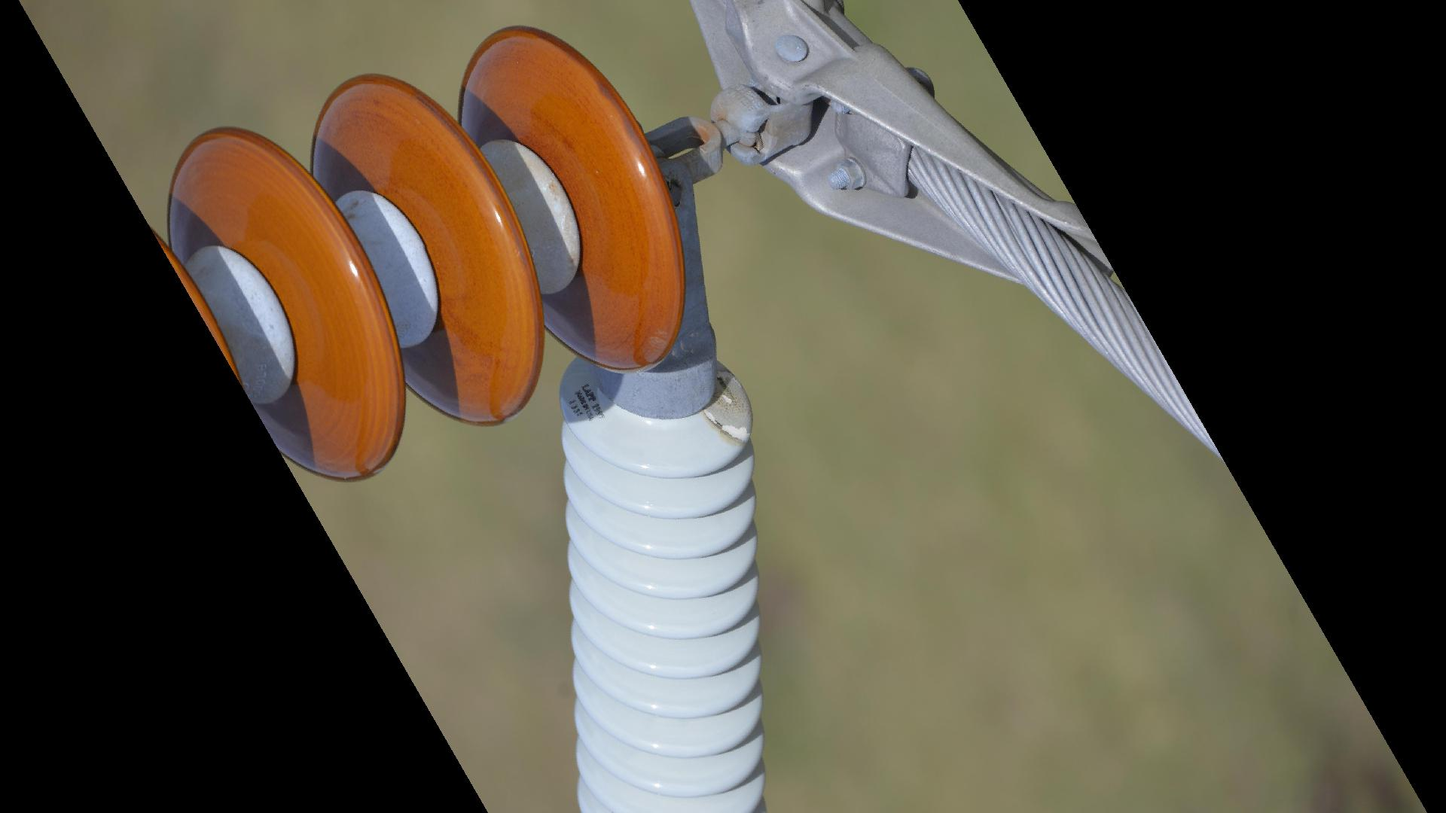insulator: (139, 18, 693, 491), (553, 358, 774, 813)
insulator_flashover: (702, 355, 758, 449)
